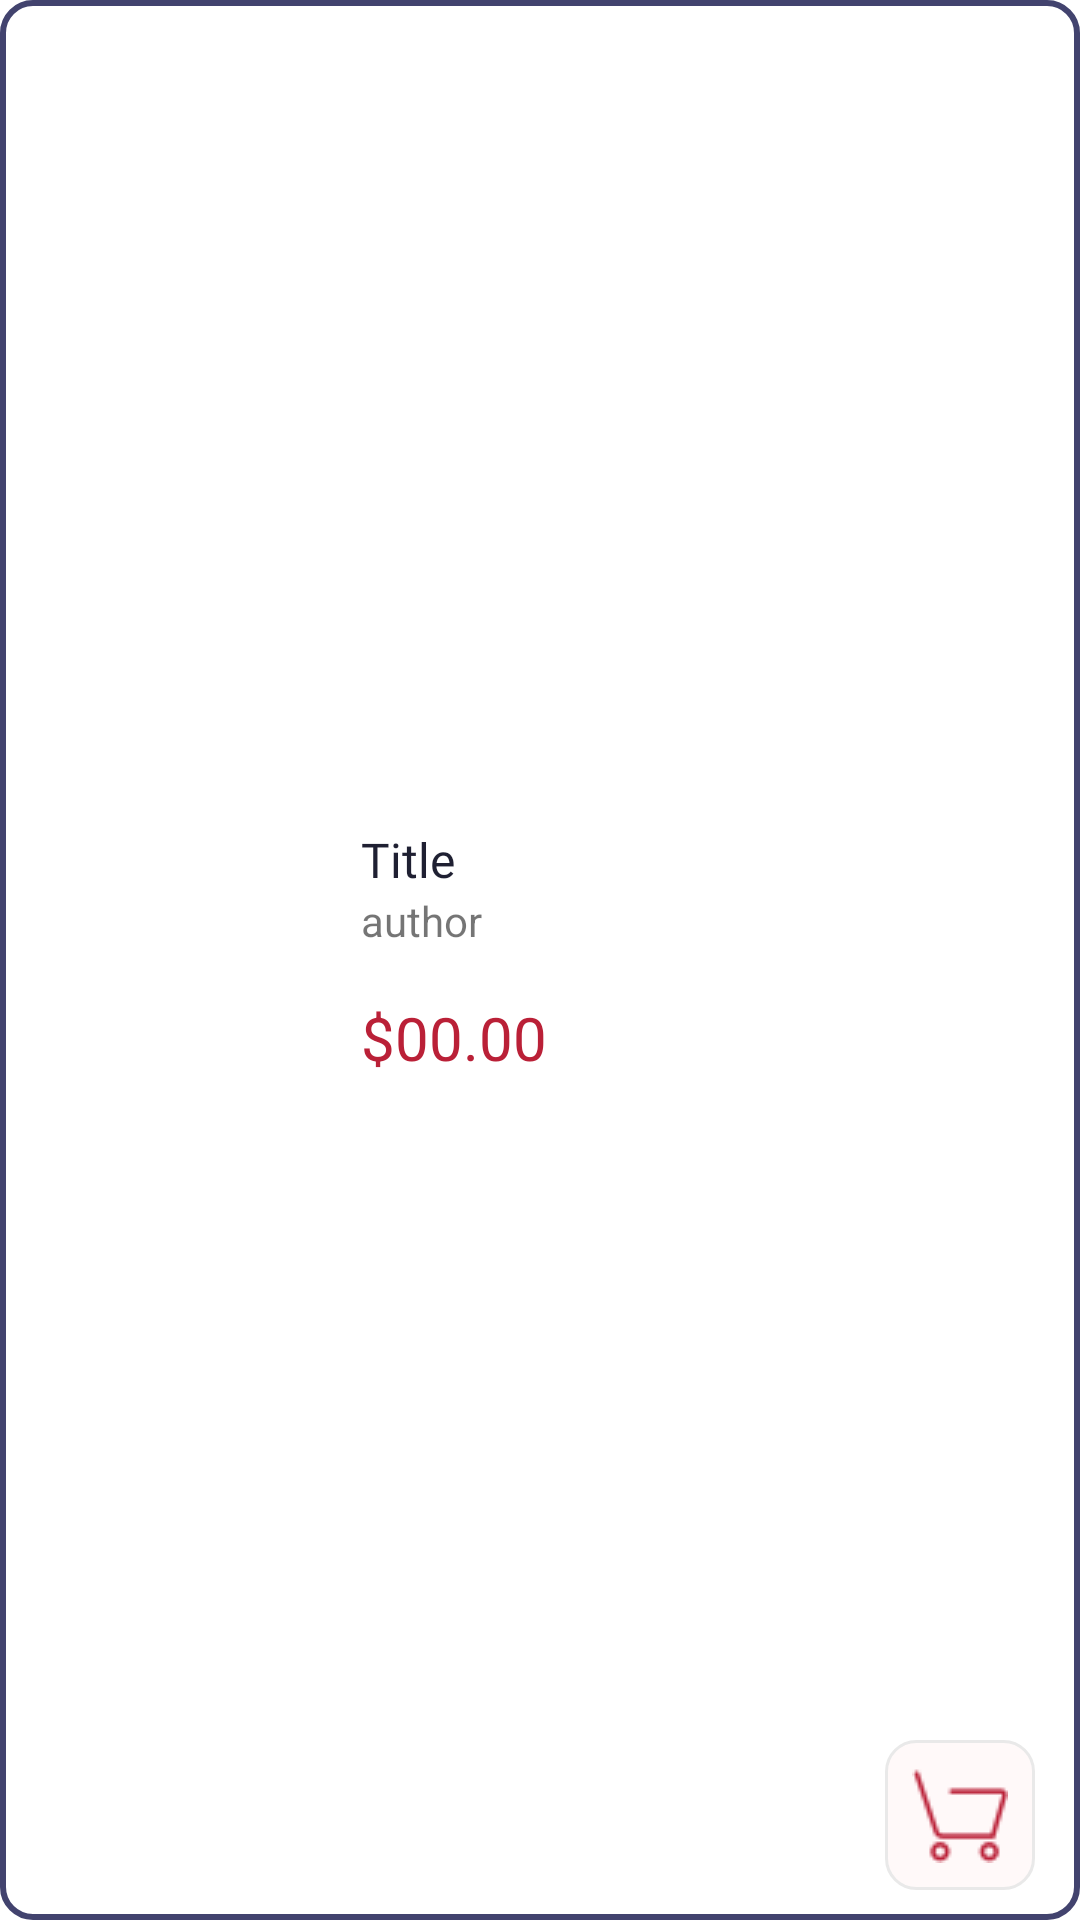

Named icons in this screenshot (1080×1920) and their centers, (x=x, y=y):
cart: (x=960, y=1816)
